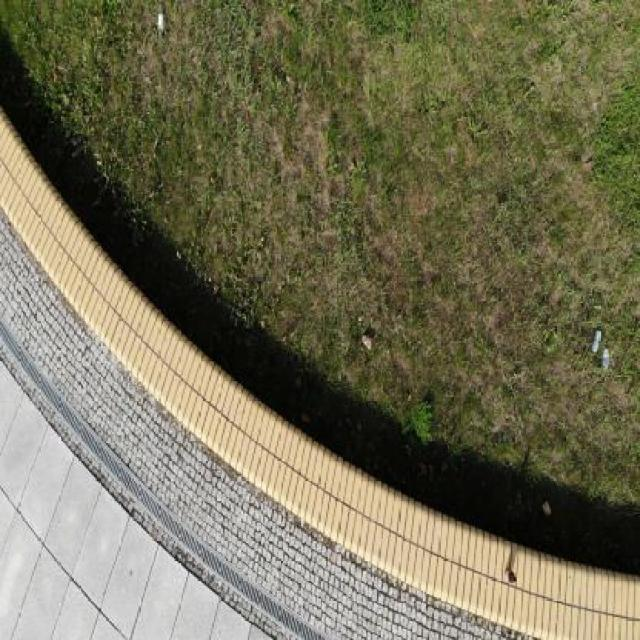Garbage: (542, 499, 553, 521), (157, 12, 165, 41), (360, 335, 374, 351), (592, 330, 601, 353), (602, 348, 610, 371), (505, 568, 517, 581)
